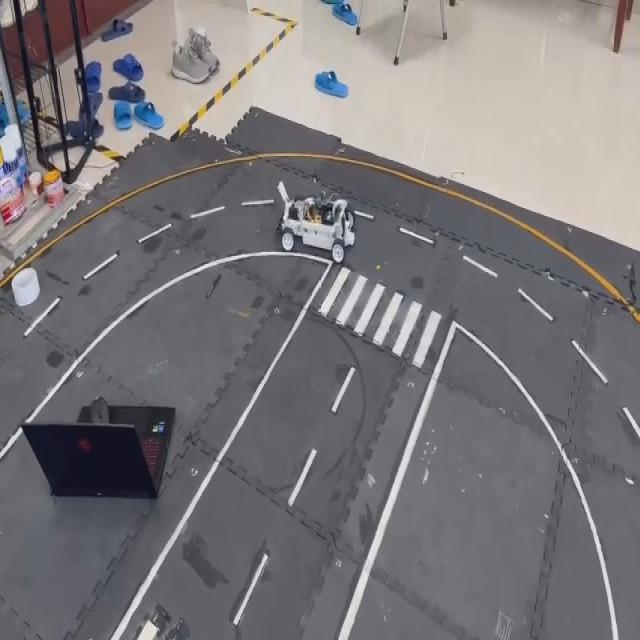SiCo-CAR: (275, 179, 356, 264)
